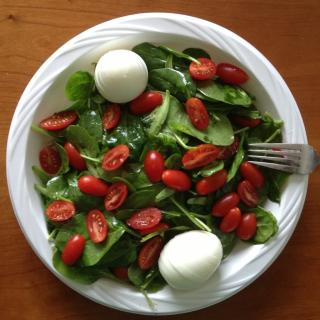tomato: (182, 143, 221, 171), (137, 236, 165, 270), (184, 98, 212, 132), (40, 109, 77, 132), (60, 142, 87, 172), (123, 205, 161, 226), (102, 142, 129, 169), (195, 173, 228, 195), (212, 191, 240, 216), (86, 211, 107, 244), (188, 57, 218, 80), (44, 200, 75, 222), (132, 93, 163, 115), (217, 62, 248, 84), (234, 213, 256, 242), (239, 160, 265, 184), (161, 170, 190, 191), (76, 175, 106, 195), (144, 152, 164, 182), (39, 147, 61, 174), (104, 183, 128, 207), (236, 181, 259, 206), (63, 236, 83, 263), (220, 206, 240, 231), (103, 102, 122, 126), (140, 224, 168, 233), (113, 266, 130, 278)
